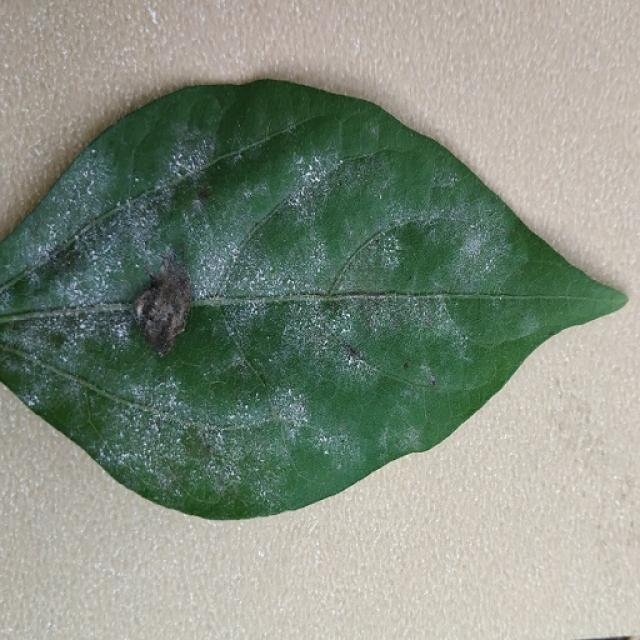Blackgram: (0, 80, 625, 519)
Powdery_Mildew: (107, 201, 293, 370), (82, 198, 303, 326), (181, 383, 325, 494), (25, 217, 79, 397), (276, 295, 391, 375), (74, 192, 153, 281), (454, 202, 515, 308), (118, 396, 204, 460), (434, 210, 512, 279), (41, 308, 120, 372), (274, 147, 350, 211), (363, 156, 427, 226), (342, 292, 394, 370), (410, 300, 475, 356), (61, 153, 117, 203), (356, 227, 411, 272), (175, 129, 207, 193), (500, 300, 551, 339), (217, 223, 256, 273), (334, 428, 368, 482), (307, 284, 329, 366), (390, 416, 425, 454), (107, 434, 142, 468), (433, 167, 466, 192), (98, 431, 120, 468), (298, 161, 324, 186), (21, 268, 46, 293), (19, 386, 42, 408), (115, 325, 128, 338), (174, 151, 186, 165), (150, 422, 162, 435), (88, 250, 99, 262), (77, 319, 88, 331), (469, 223, 478, 230), (91, 148, 97, 155), (338, 158, 344, 165)
